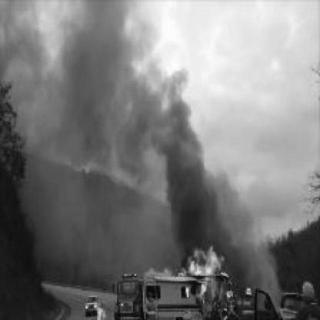Fire: (168, 241, 231, 315)
